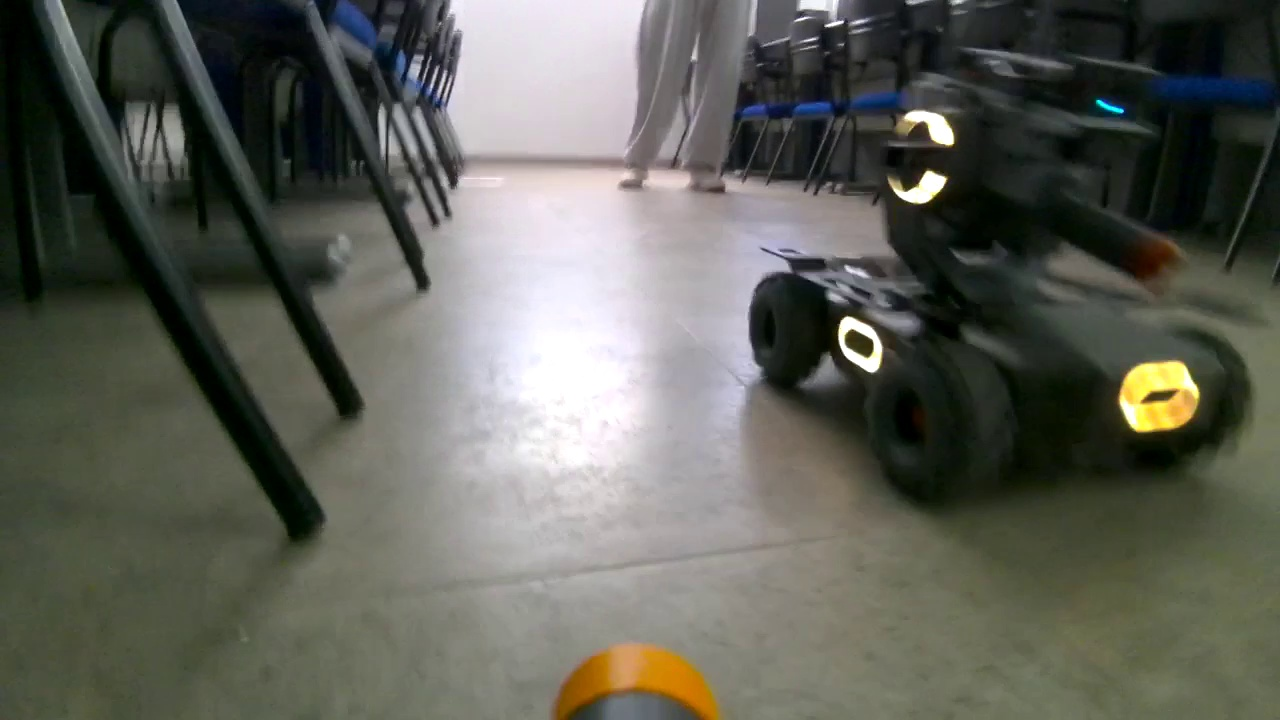robot: (736, 3, 1260, 511)
